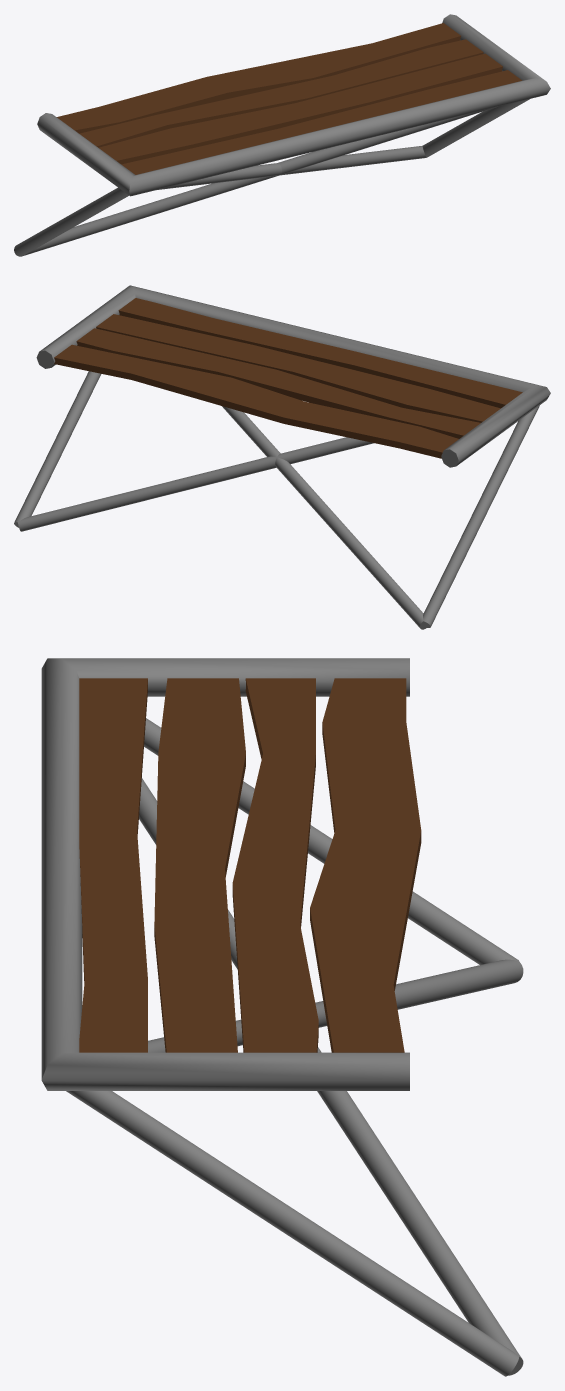
File: Scaffolding.fbx
3 views of the same model, one above another, from view 1: azimuth 30°, elevation 25°; view 2: azimuth 150°, elevation 25°; view 3: azimuth 270°, elevation 25° (orthographic). The views are drawn at different scales.
Parts seen in each view (by area): view 1: sweep3; view 2: sweep3; view 3: sweep3.
Part boxes in pixels (x1,y1,x2,y2): sweep3: (14,14,550,256); sweep3: (14,285,550,629); sweep3: (41,658,523,1376).
Bounding box in the file's own units: 1.23 × 0.452 × 0.6103.
